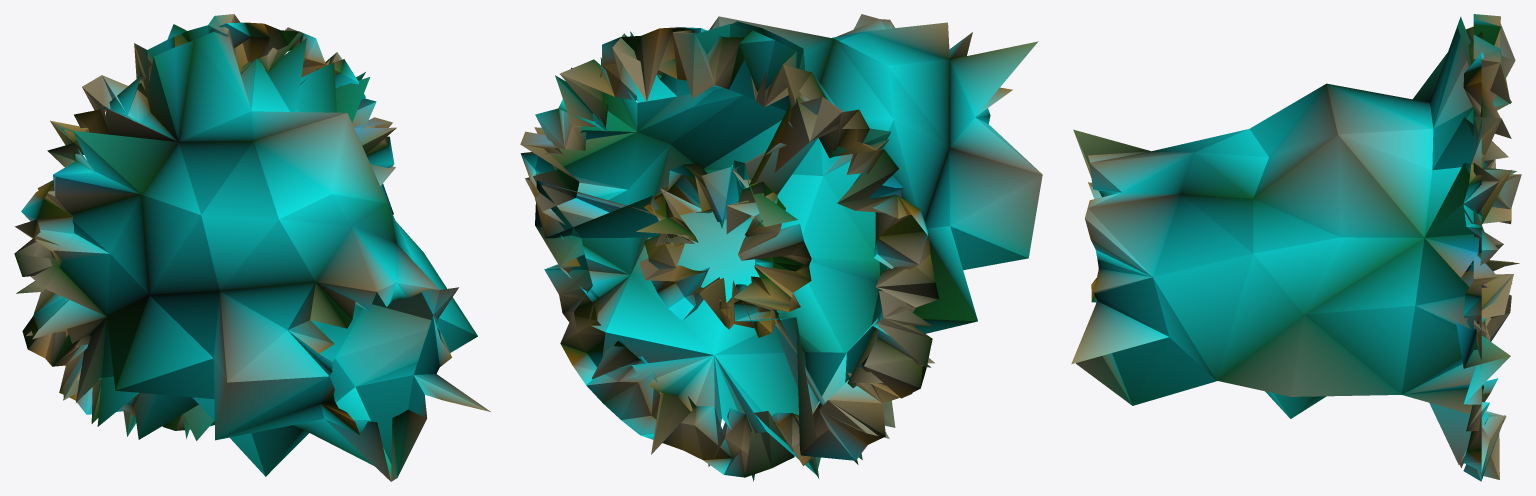
Rendered from lamp_shade_2_final500.obj.
The picture shows the model from 3 angles, left to right: view 1: azimuth 30°, elevation 25°; view 2: azimuth 150°, elevation 25°; view 3: azimuth 270°, elevation 25°; orthographic projection. The views are drawn at different scales.
Bounding box in the file's own units: 1.24 × 1.3 × 1.23.
